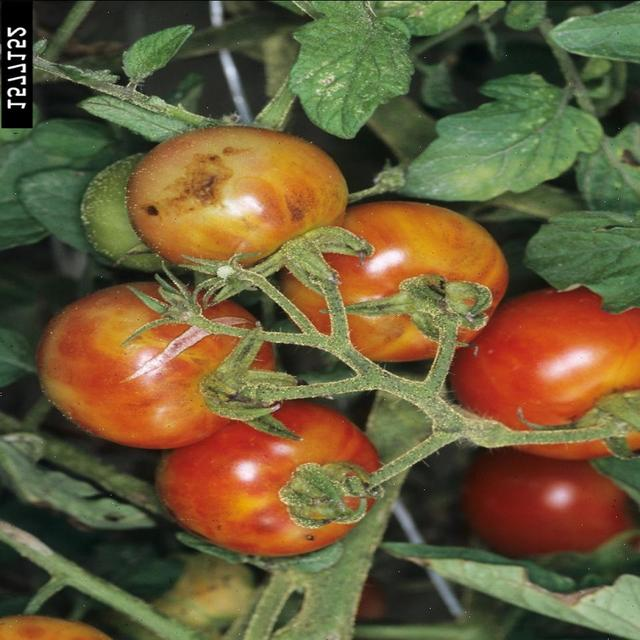Spotted wilt Virus Fruit: (104, 98, 339, 320)
